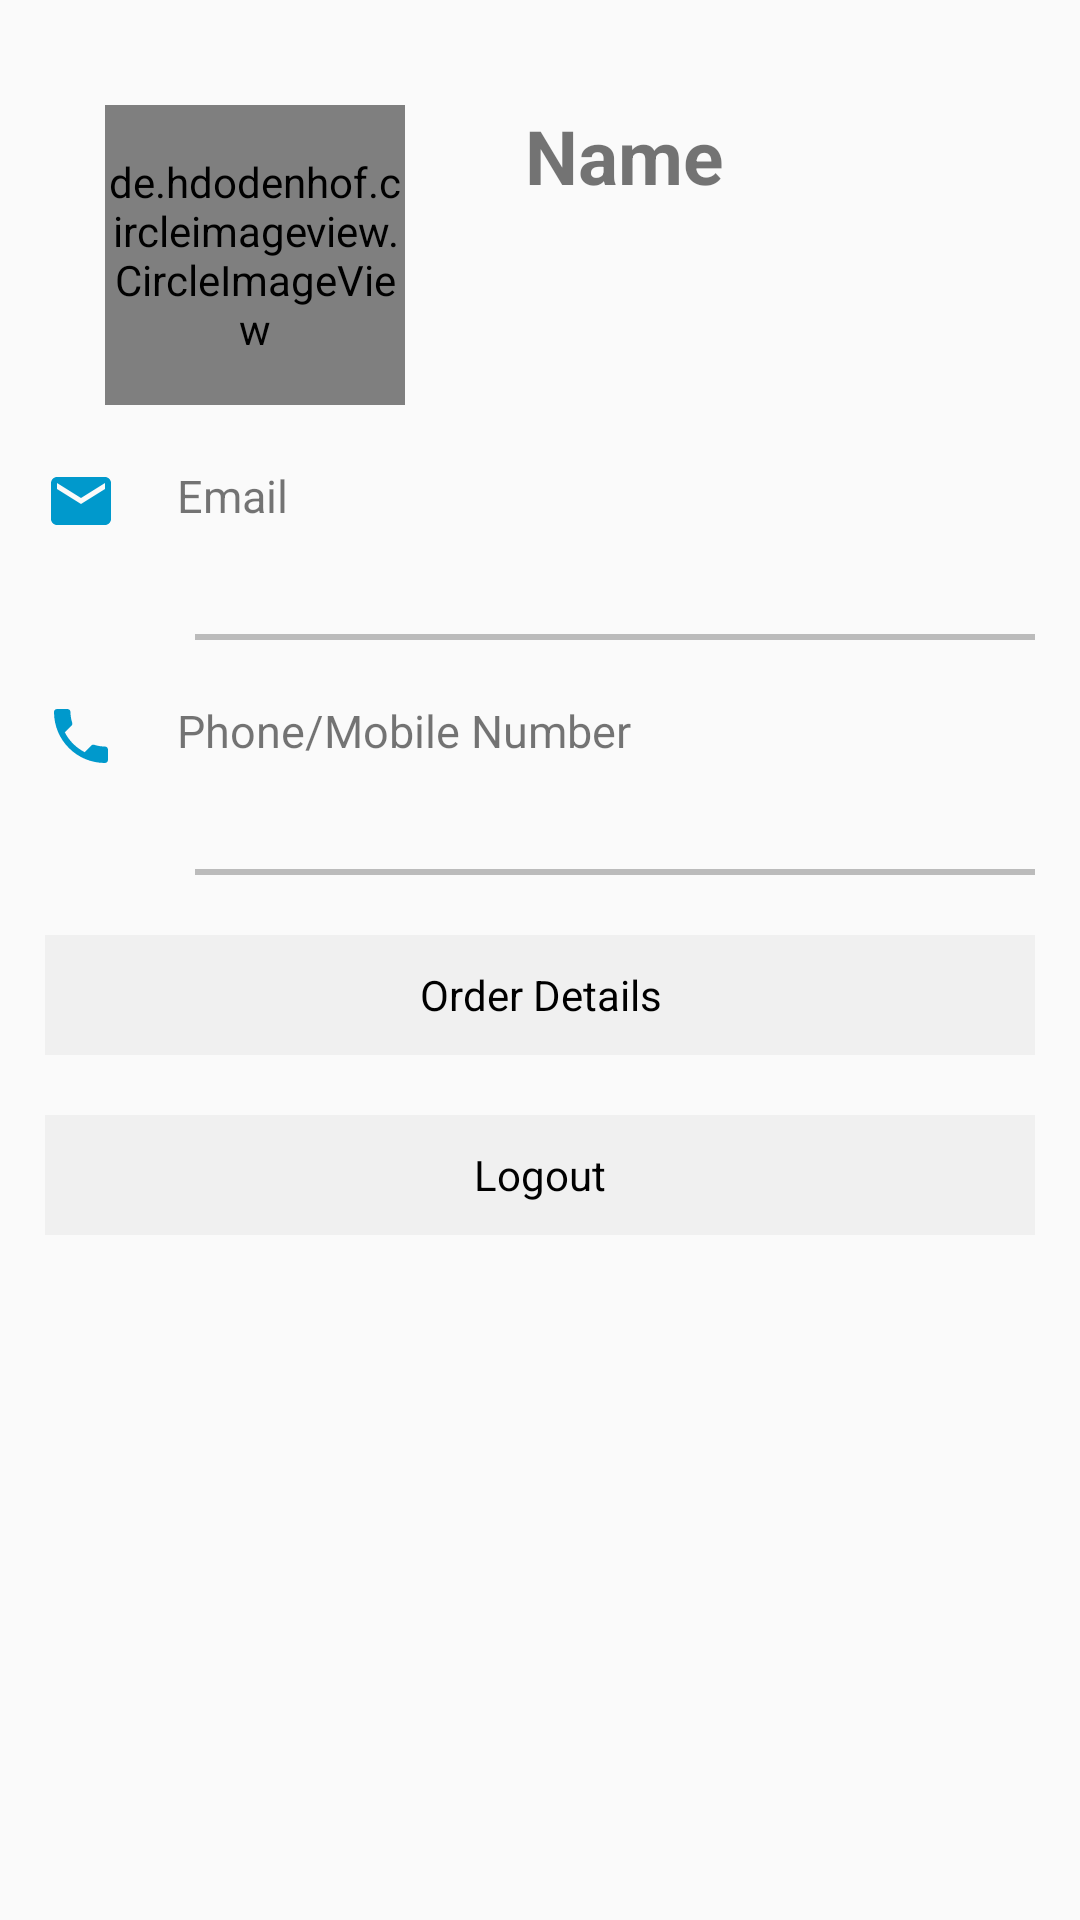

Named icons in this screenshot (1080 × 1920) and their bounding boxes, [x1,y1,x2,y2]:
call: [54,709,108,763]
